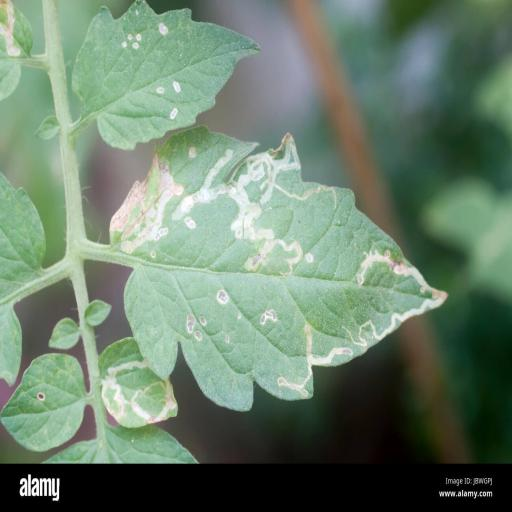Leaf Miner: (109, 126, 451, 414), (100, 337, 180, 431)
